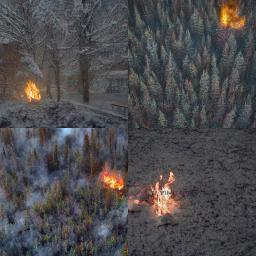Small fire: (86, 141, 208, 232), (195, 0, 256, 56), (1, 66, 57, 112)
